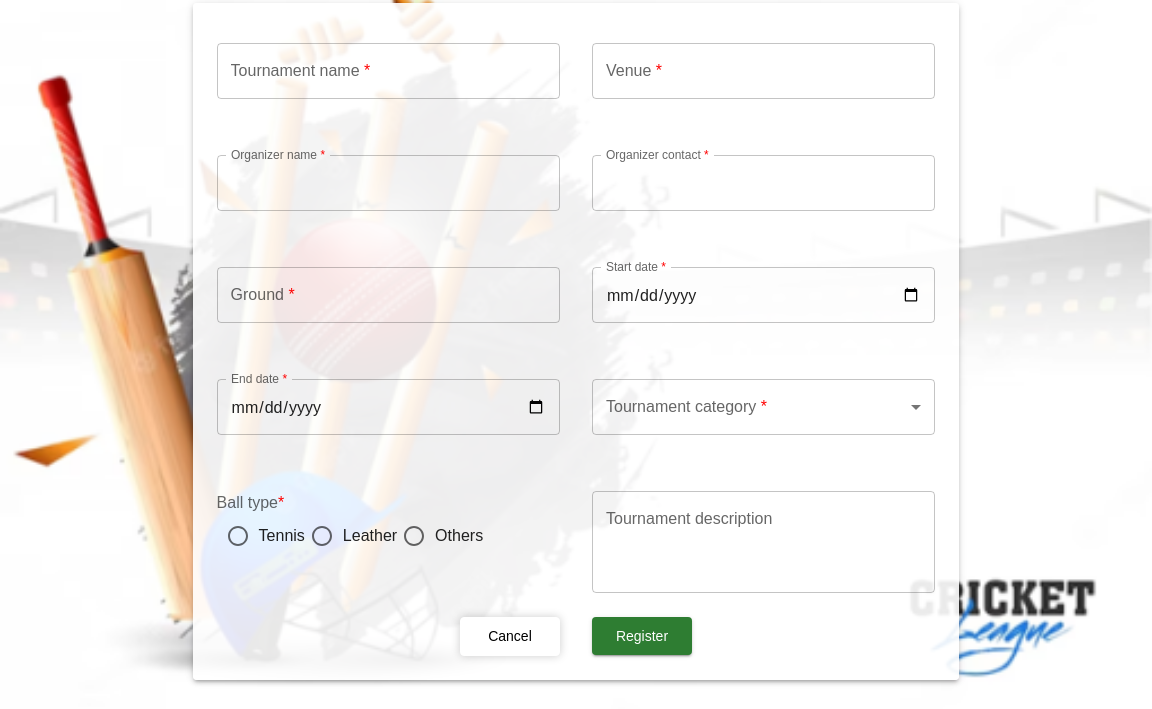
Scenario: TournamentForm › should display error message if required fields are not filled
(page scrolled)
What coordinates should you click on to do the following:
click the button with test id "submit"
I would click on:
 (642, 636)
Its box is [592,617,692,655].
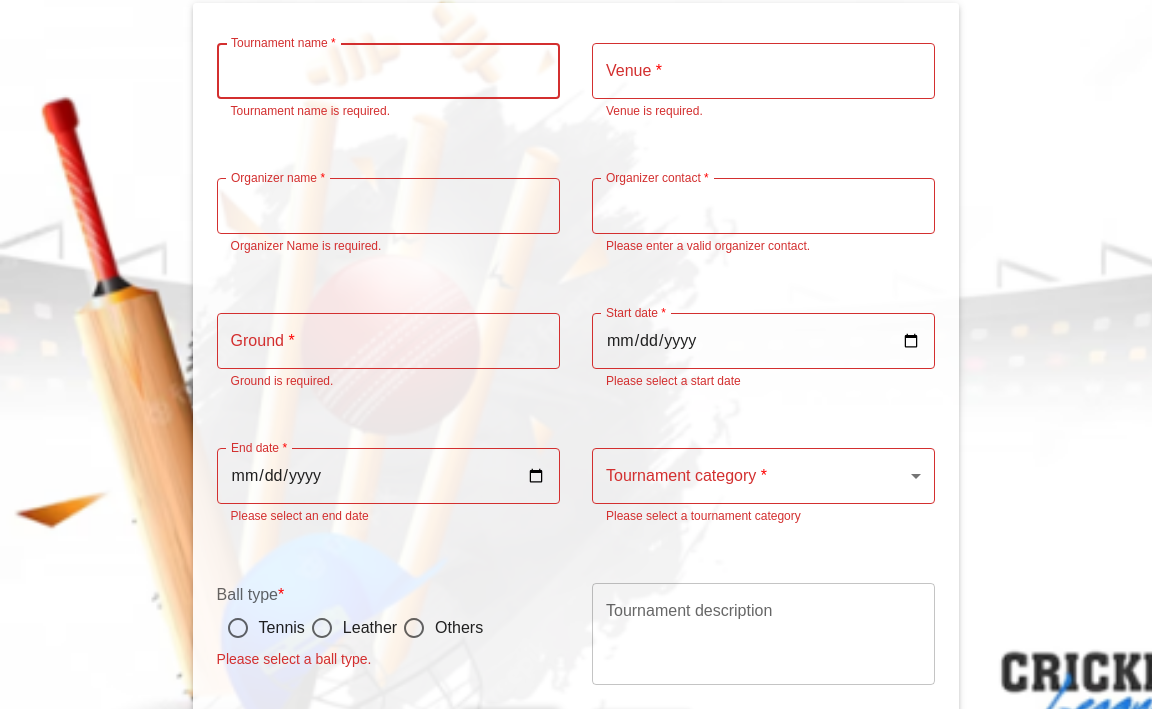
Expected: the text "Tournament name is required." is shown, [231,104,390,118]
